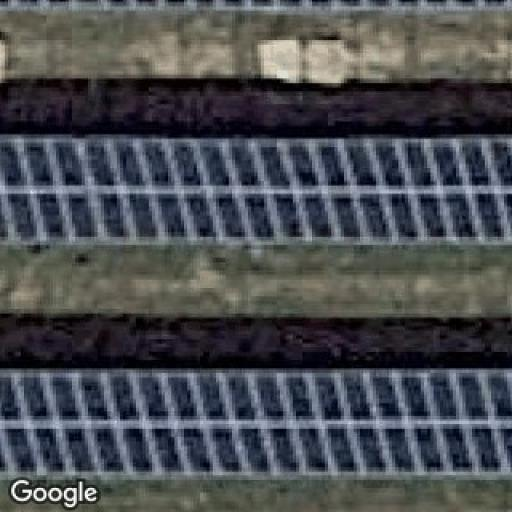solar-panel: (0, 139, 512, 248), (0, 374, 512, 474), (0, 0, 512, 11)
